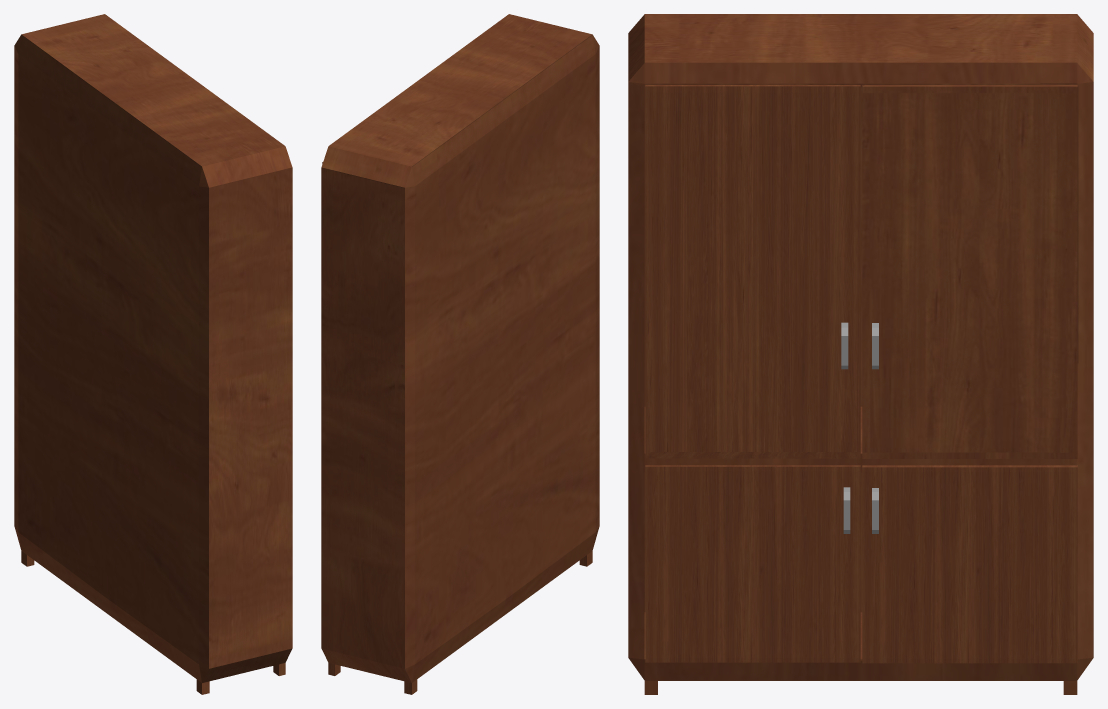
Rendered from closet.fbx.
The picture shows the model from 3 angles, left to right: view 1: azimuth 30°, elevation 25°; view 2: azimuth 150°, elevation 25°; view 3: azimuth 270°, elevation 25°; orthographic projection. The views are drawn at different scales.
Visible parts, largest first — view 1: closet; view 2: closet; view 3: R_Top_door, L_Top_door, closet, R_Bot_Door, L_Bot_door.
Part boxes in pixels (x1,y1,x2,y2): closet: [14, 14, 292, 694]; closet: [321, 14, 599, 694]; R_Top_door: [862, 85, 1077, 458]; L_Top_door: [645, 85, 860, 458]; closet: [628, 14, 1093, 694]; R_Bot_Door: [862, 465, 1077, 663]; L_Bot_door: [645, 465, 860, 662].
Size of the model in its own units: 192 by 927 by 618.
